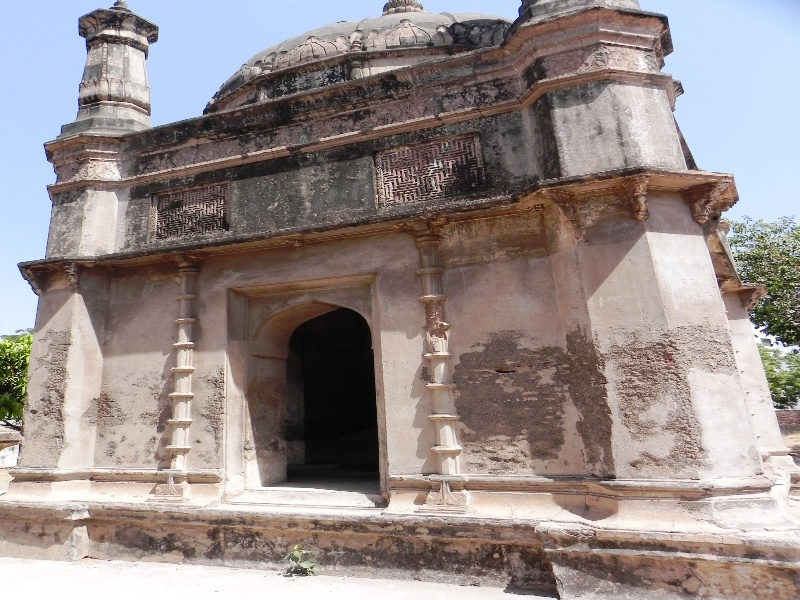Spalling: (453, 325, 728, 462), (39, 333, 71, 426), (86, 389, 127, 436), (210, 368, 229, 455)
